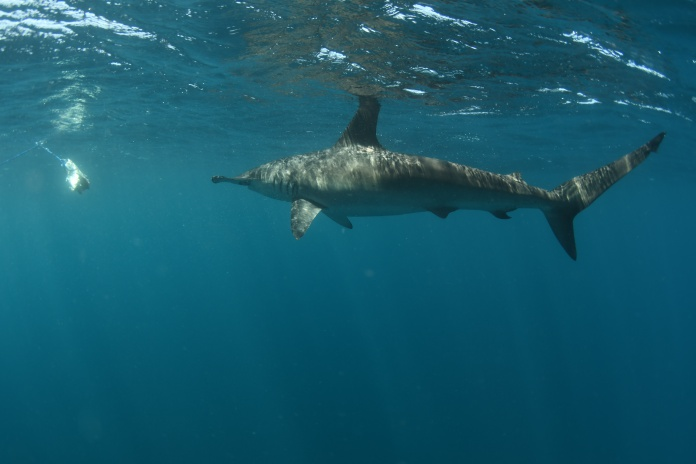Hammer: (32, 211, 374, 376)
